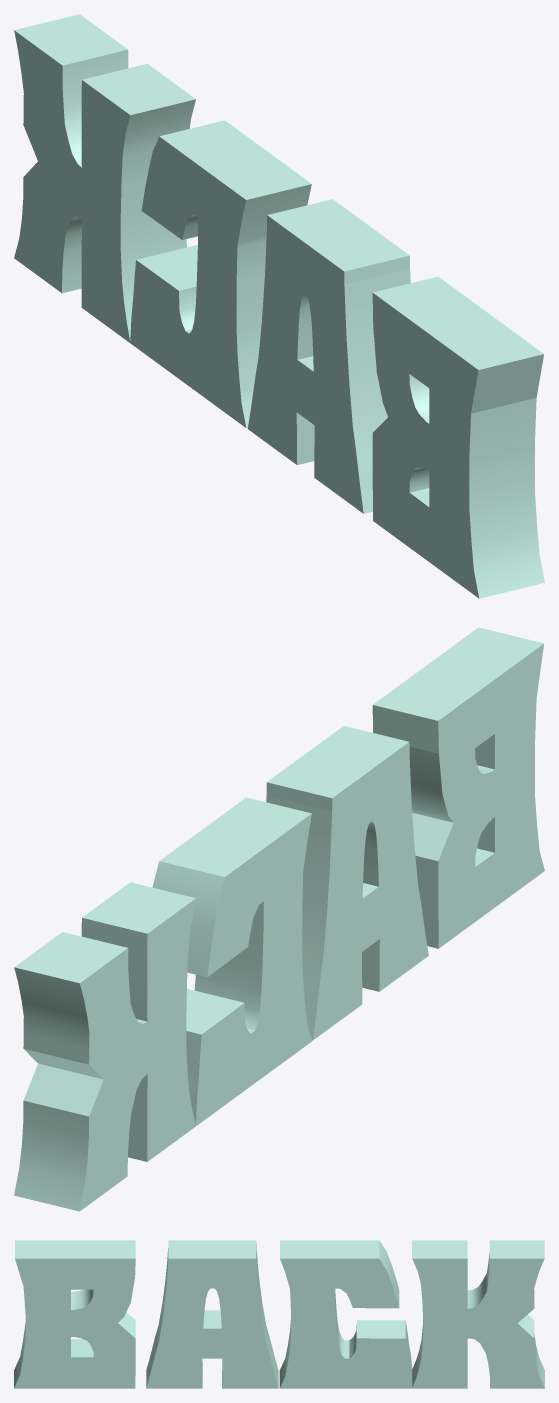
File: Back(Button).fbx
3 views of the same model, one above another, from view 1: azimuth 30°, elevation 25°; view 2: azimuth 150°, elevation 25°; view 3: azimuth 270°, elevation 25° (orthographic). The views are drawn at different scales.
Parts seen in each view (by area): view 1: Back; view 2: Back; view 3: Back.
Part boxes in pixels (x1,y1,x2,y2): Back: [14, 14, 544, 598]; Back: [14, 627, 544, 1211]; Back: [14, 1240, 544, 1388].
Bounding box in the file's own units: 50.18 × 166 × 614.
